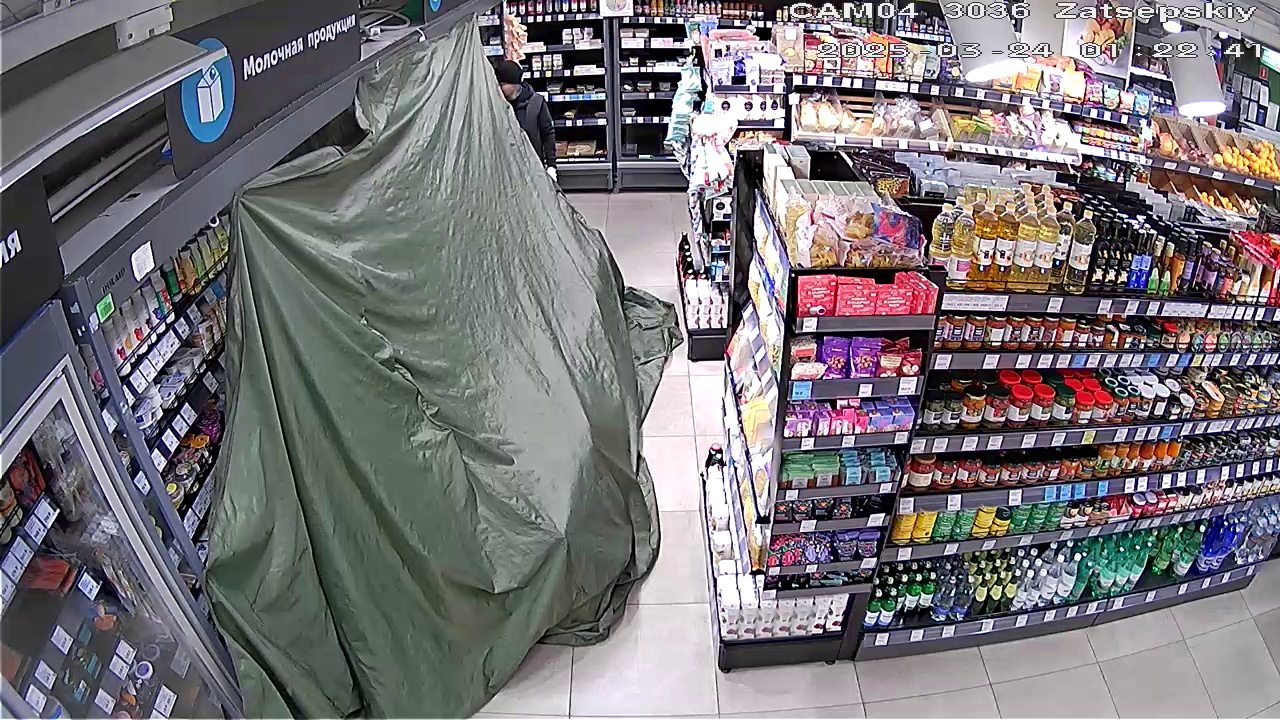Human: (485, 57, 569, 186)
dome: (215, 35, 686, 705)
